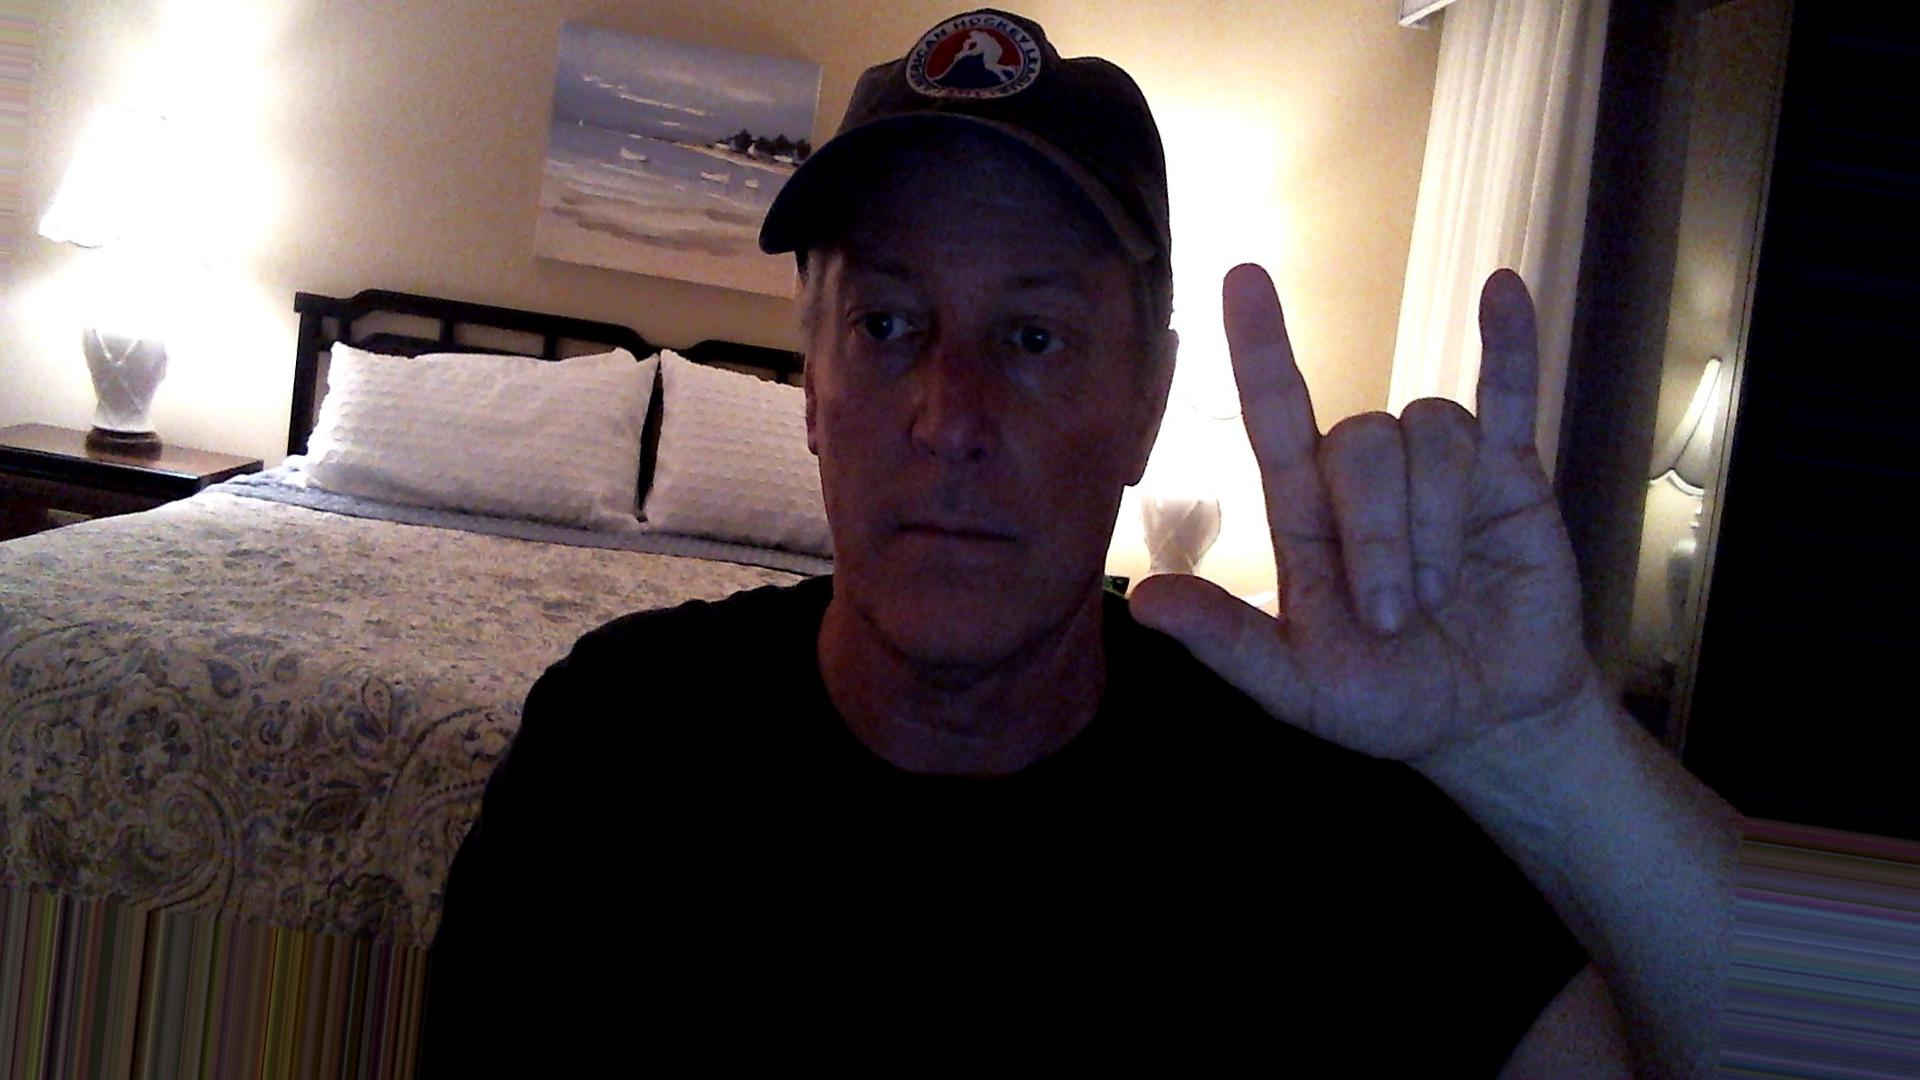I Love You: (1127, 233, 1640, 767)
